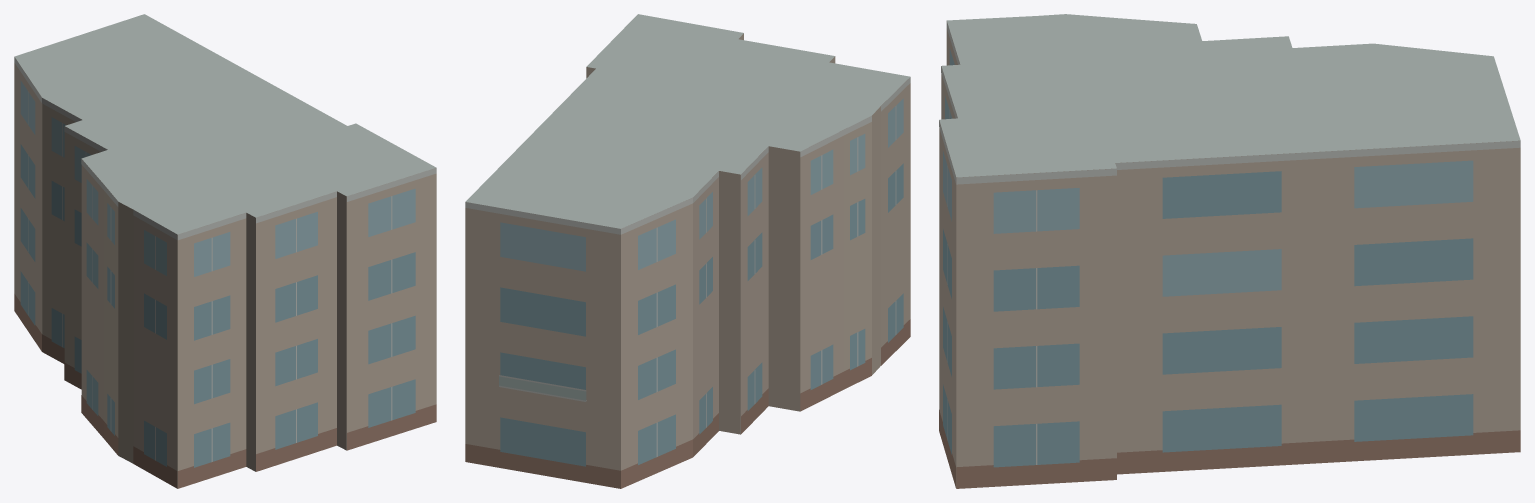
Rendered from survey-upis-32464944.glb.
The picture shows the model from 3 angles, left to right: view 1: azimuth 30°, elevation 25°; view 2: azimuth 150°, elevation 25°; view 3: azimuth 270°, elevation 25°; orthographic projection. The views are drawn at different scales.
Parts seen in each view (by area): view 1: survey-upis-32464944.tmp; view 2: survey-upis-32464944.tmp; view 3: survey-upis-32464944.tmp.
Part boxes in pixels (x1,y1,x2,y2): survey-upis-32464944.tmp: (14, 14, 436, 488); survey-upis-32464944.tmp: (465, 14, 910, 488); survey-upis-32464944.tmp: (939, 14, 1520, 488).
Size of the model in its own units: 12.05 by 10.7 by 18.12.
